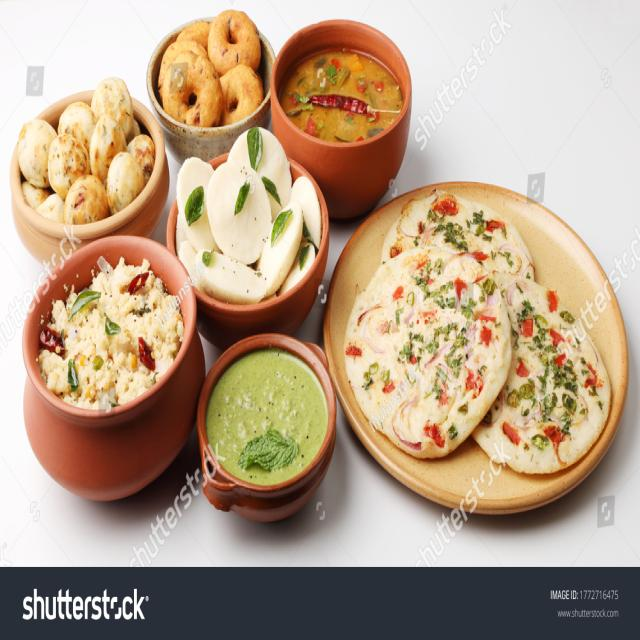IDLI: (177, 126, 324, 299)
MEDU VADA: (154, 12, 269, 125)
UPMA: (42, 259, 183, 404)
